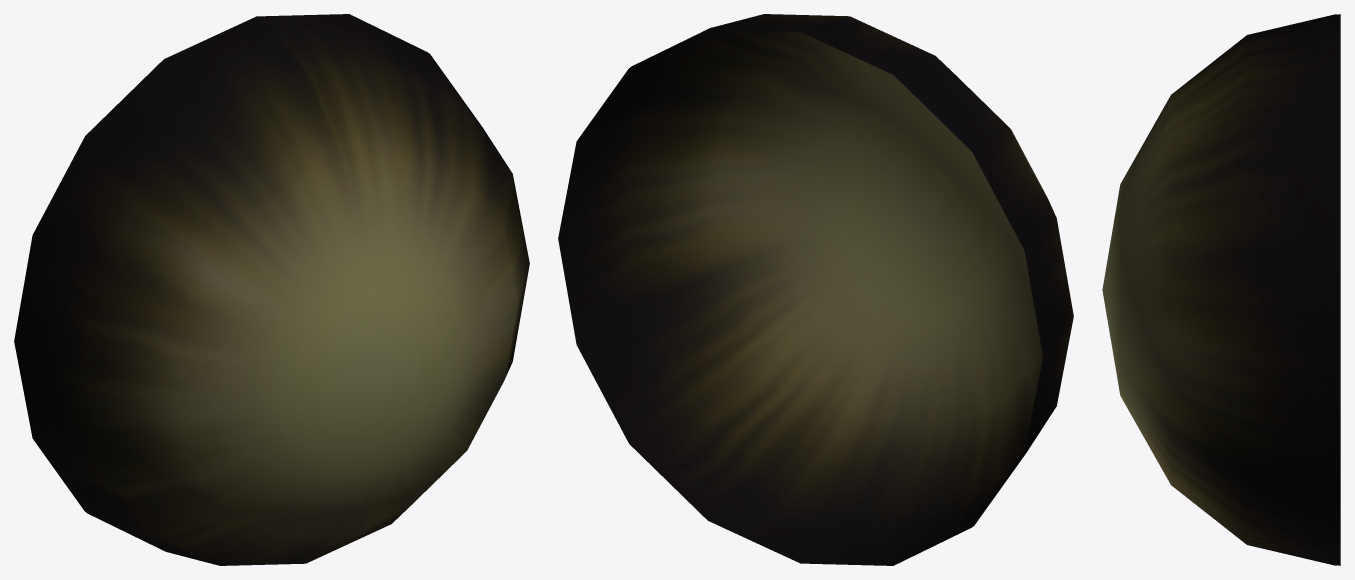
The model's file is Particle.FBX.
The picture shows the model from 3 angles, left to right: view 1: azimuth 30°, elevation 25°; view 2: azimuth 150°, elevation 25°; view 3: azimuth 270°, elevation 25°; orthographic projection. The views are drawn at different scales.
Visible parts, largest first — view 1: Sphere001; view 2: Sphere001; view 3: Sphere001.
Part boxes in pixels (left/top/right/bottom): Sphere001: left=14, top=14, right=529, bottom=565; Sphere001: left=558, top=14, right=1073, bottom=565; Sphere001: left=1102, top=14, right=1340, bottom=565.
Size of the model in its own units: 119 by 124 by 53.14.
